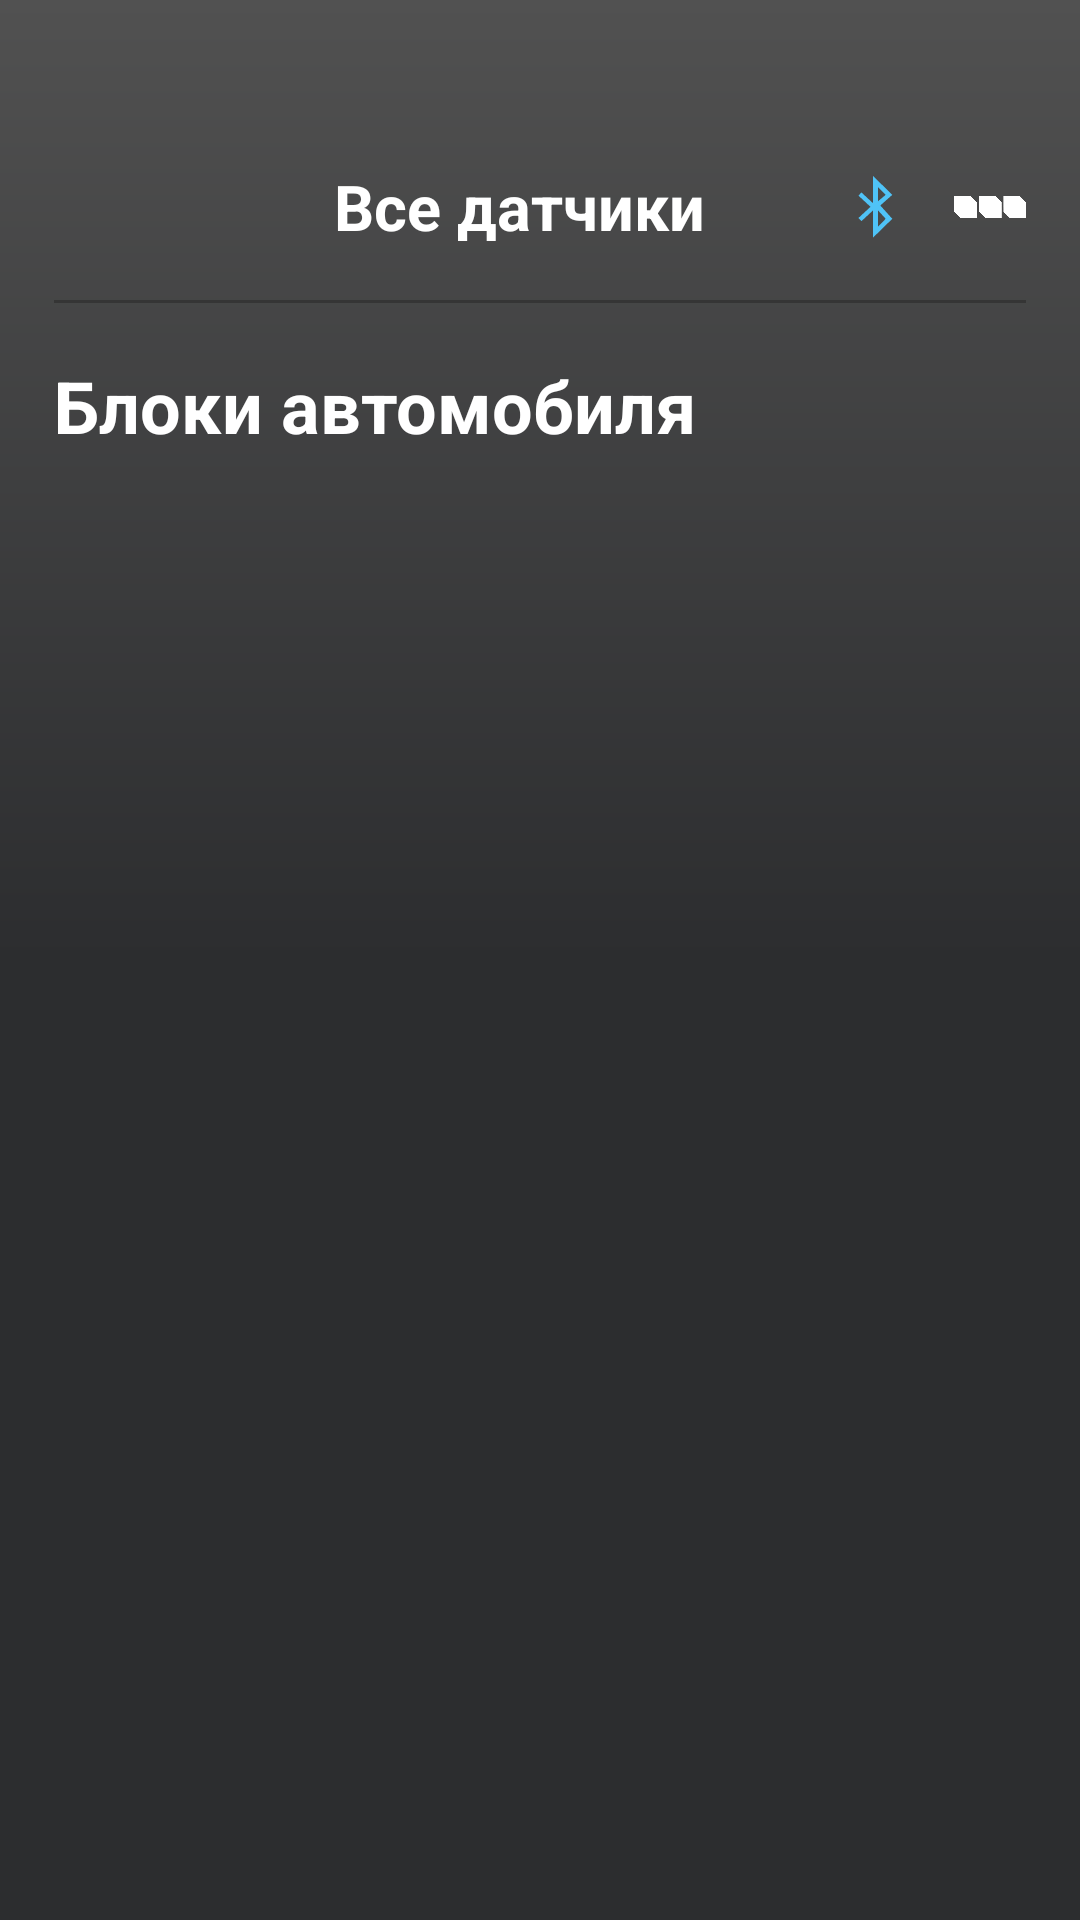

Where icons sit on this 1080*1920 app screen, as region(x1, y1, x2, y2):
Ещё: region(954, 196, 1026, 218)
